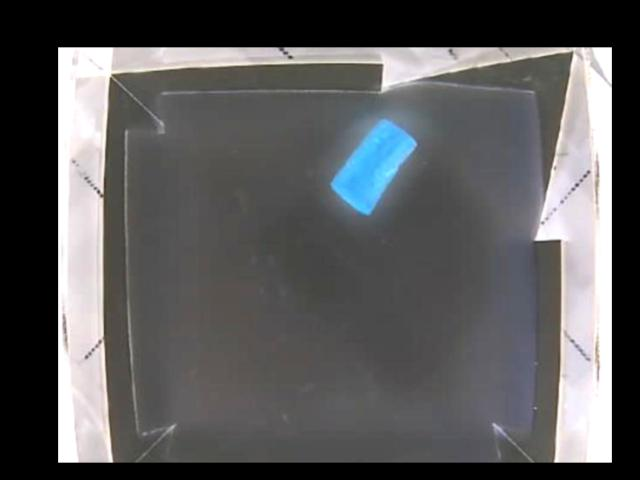Carrot: (329, 120, 418, 215)
